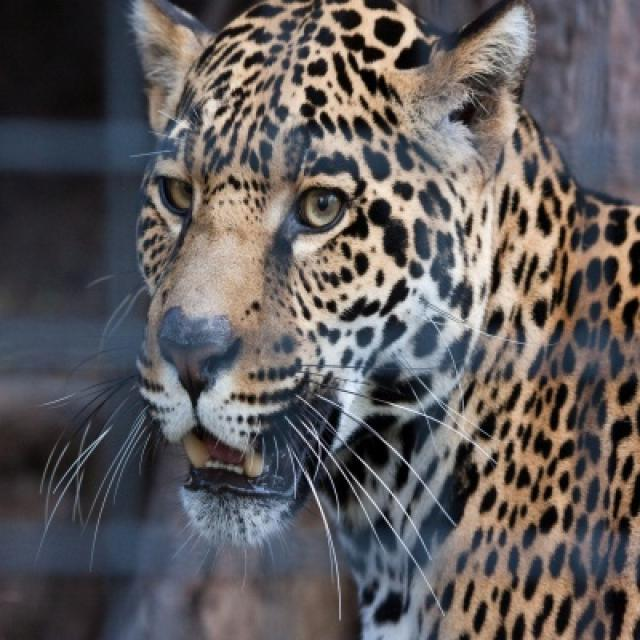Jaguar: (128, 0, 638, 638)
